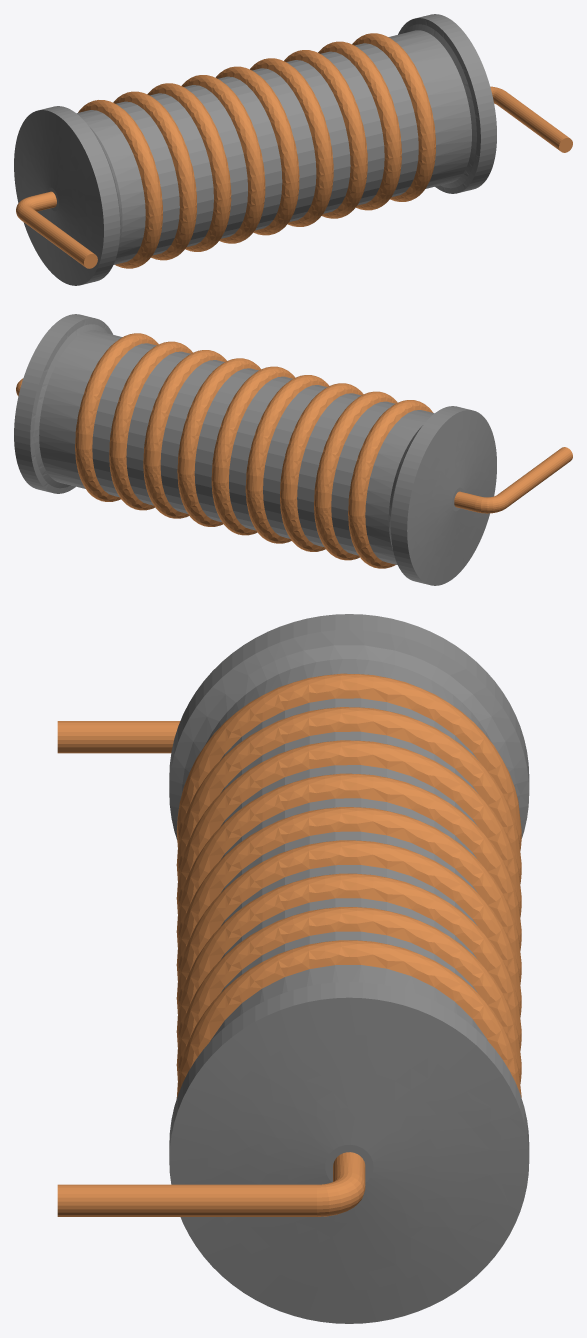
File: L_Axial_L26.0mm_D10.0mm_P30.48mm_Horizontal_Fastron_77A.glb
3 views of the same model, one above another, from view 1: azimuth 30°, elevation 25°; view 2: azimuth 150°, elevation 25°; view 3: azimuth 270°, elevation 25° (orthographic). The views are drawn at different scales.
Visible parts, largest first — view 1: Shape_IndexedFaceSet.029, Shape_IndexedFaceSet.005, Shape_IndexedFaceSet.026, Shape_IndexedFaceSet.019, Shape_IndexedFaceSet.011, Shape_IndexedFaceSet.015, Shape_IndexedFaceSet.007, Shape_IndexedFaceSet.017, Shape_IndexedFaceSet.023, Shape_IndexedFaceSet.025, Shape_IndexedFaceSet.021, Shape_IndexedFaceSet.013 (+15 smaller); view 2: Shape_IndexedFaceSet.029, Shape_IndexedFaceSet.005, Shape_IndexedFaceSet.026, Shape_IndexedFaceSet.025, Shape_IndexedFaceSet.007, Shape_IndexedFaceSet.011, Shape_IndexedFaceSet.023, Shape_IndexedFaceSet.019, Shape_IndexedFaceSet.021, Shape_IndexedFaceSet.017, Shape_IndexedFaceSet.013, Shape_IndexedFaceSet.015 (+15 smaller); view 3: Shape_IndexedFaceSet, Shape_IndexedFaceSet.027, Shape_IndexedFaceSet.013, Shape_IndexedFaceSet.021, Shape_IndexedFaceSet.025, Shape_IndexedFaceSet.011, Shape_IndexedFaceSet.015, Shape_IndexedFaceSet.019, Shape_IndexedFaceSet.023, Shape_IndexedFaceSet.017, Shape_IndexedFaceSet.007, Shape_IndexedFaceSet.008 (+14 smaller).
Boxes of the visible parts, x1,y1,x2,y2 form: Shape_IndexedFaceSet.029: (14,110,103,285); Shape_IndexedFaceSet.005: (388,30,471,188); Shape_IndexedFaceSet.026: (76,110,145,264); Shape_IndexedFaceSet.019: (181,75,265,243); Shape_IndexedFaceSet.011: (318,41,401,210); Shape_IndexedFaceSet.015: (250,58,333,226); Shape_IndexedFaceSet.007: (352,33,435,201); Shape_IndexedFaceSet.017: (215,66,299,235); Shape_IndexedFaceSet.023: (113,91,196,260); Shape_IndexedFaceSet.025: (78,100,162,268); Shape_IndexedFaceSet.021: (147,83,231,251); Shape_IndexedFaceSet.013: (284,50,367,218); Shape_IndexedFaceSet.029: (407,410,496,585); Shape_IndexedFaceSet.005: (39,330,122,488); Shape_IndexedFaceSet.026: (365,410,434,564); Shape_IndexedFaceSet.025: (348,400,433,568); Shape_IndexedFaceSet.007: (75,333,158,501); Shape_IndexedFaceSet.011: (109,341,192,510); Shape_IndexedFaceSet.023: (314,391,397,560); Shape_IndexedFaceSet.019: (245,375,329,543); Shape_IndexedFaceSet.021: (280,383,363,551); Shape_IndexedFaceSet.017: (211,366,294,535); Shape_IndexedFaceSet.013: (143,350,226,518); Shape_IndexedFaceSet.015: (177,358,260,526); Shape_IndexedFaceSet: (169,997,529,1323); Shape_IndexedFaceSet.027: (169,630,529,839); Shape_IndexedFaceSet.013: (176,873,521,1050); Shape_IndexedFaceSet.021: (176,740,521,916); Shape_IndexedFaceSet.025: (176,673,521,850); Shape_IndexedFaceSet.011: (176,907,521,1083); Shape_IndexedFaceSet.015: (176,840,521,1016); Shape_IndexedFaceSet.019: (176,773,521,950); Shape_IndexedFaceSet.023: (176,707,521,883); Shape_IndexedFaceSet.017: (176,807,521,984); Shape_IndexedFaceSet.007: (176,940,521,1098); Shape_IndexedFaceSet.008: (57,1184,316,1216).
Bounding box in the file's own units: 12.35 × 3.94 × 5.16.
